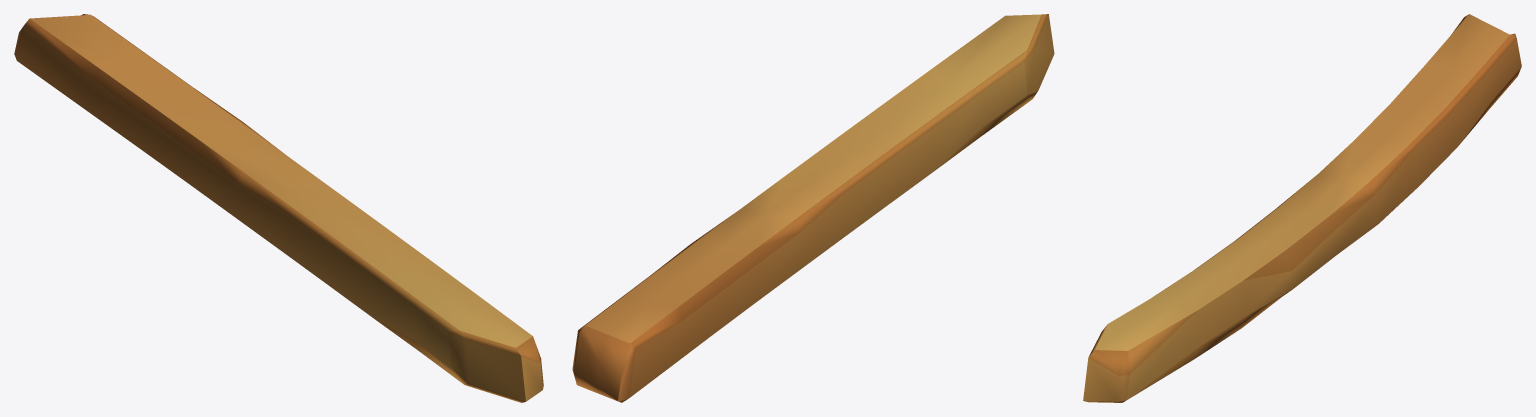
The model's file is consumables-junkfood-frenchfry_v2.glb.
3 views of the same model, side by side, from view 1: azimuth 30°, elevation 25°; view 2: azimuth 150°, elevation 25°; view 3: azimuth 330°, elevation 25° (orthographic). The views are drawn at different scales.
Parts seen in each view (by area): view 1: FrenchFry_v2; view 2: FrenchFry_v2; view 3: FrenchFry_v2.
Part boxes in pixels (<box>): FrenchFry_v2: <box>14,14,543,402</box>; FrenchFry_v2: <box>572,14,1054,402</box>; FrenchFry_v2: <box>1083,14,1521,402</box>.
Bounding box in the file's own units: 0.0125 × 0.0101 × 0.1085.
